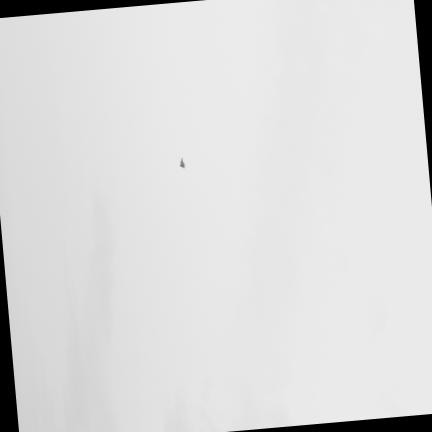Shahed: (178, 158, 185, 170)
